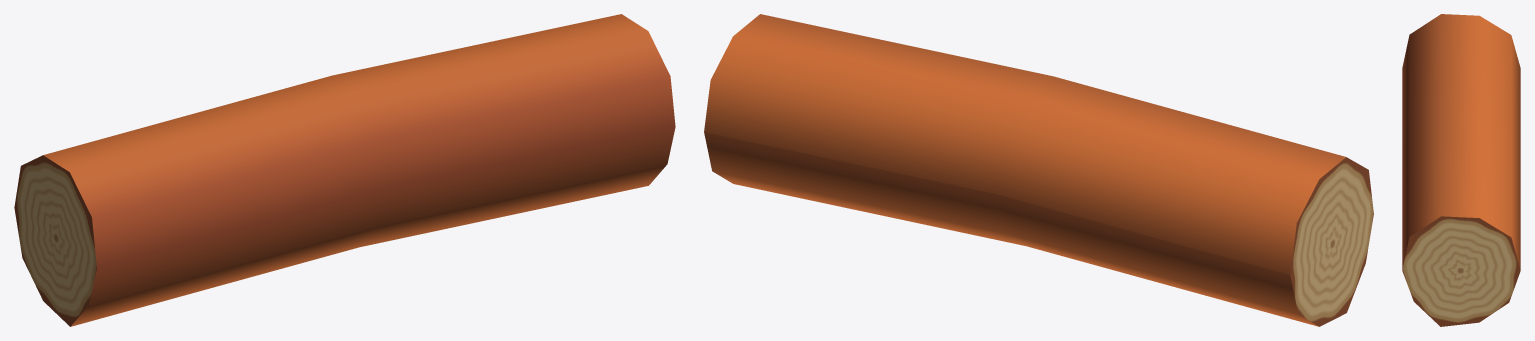
File: wood_log.glb
3 renders of one model, left to right at view 1: azimuth 30°, elevation 25°; view 2: azimuth 150°, elevation 25°; view 3: azimuth 270°, elevation 25°, orthographic. The views are drawn at different scales.
Parts seen in each view (by area): view 1: WoodLog; view 2: WoodLog; view 3: WoodLog.
Part boxes in pixels (box(x1,y1,x2,y2)): WoodLog: box(14, 14, 675, 326); WoodLog: box(704, 14, 1373, 326); WoodLog: box(1402, 14, 1520, 326).
Size of the model in its own units: 1 by 0.2699 by 0.2473.
2 materials, 2 textured.
